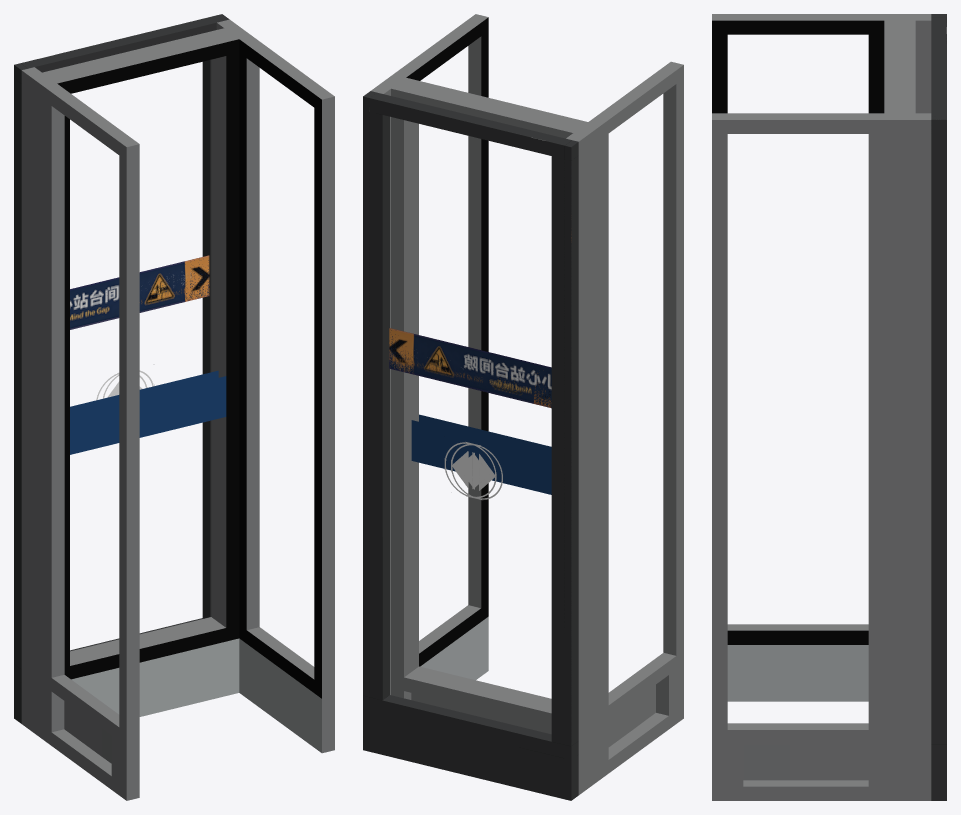
Rendered from door.obj.
3 views of the same model, side by side, from view 1: azimuth 30°, elevation 25°; view 2: azimuth 150°, elevation 25°; view 3: azimuth 270°, elevation 25° (orthographic). The views are drawn at different scales.
Parts seen in each view (by area): view 1: glass_left_long_end, glass_right_long_end, glass_right_door_end, glass_left_door_end, right_door, left_door, glass_left_door, glass_right_glass, glass_left_glass; view 2: right_door, left_door, glass_left_long_end, glass_right_long_end, glass_left_door, glass_left_door_end, glass_right_door_end, glass_right_glass, glass_left_glass; view 3: glass_right_long_end, glass_right_door_end, glass_left_long_end, left_door, glass_right_door, right_door, glass_left_door, glass_left_door_end, glass_right_glass.
Part boxes in pixels (x1,y1,x2,y2): glass_left_long_end: (21, 51, 139, 800); glass_right_long_end: (133, 19, 334, 753); glass_right_door_end: (141, 25, 251, 714); glass_left_door_end: (29, 56, 148, 739); right_door: (14, 14, 228, 723); left_door: (14, 14, 229, 721); glass_left_door: (21, 50, 140, 730); glass_right_glass: (135, 25, 239, 640); glass_left_glass: (29, 51, 140, 730); right_door: (363, 91, 578, 800); left_door: (363, 91, 578, 800); glass_left_long_end: (482, 61, 683, 793); glass_right_long_end: (371, 14, 489, 718); glass_left_door: (482, 105, 593, 794); glass_left_door_end: (490, 100, 601, 780); glass_right_door_end: (378, 75, 497, 690); glass_right_glass: (381, 81, 489, 717); glass_left_glass: (482, 106, 593, 784); glass_right_long_end: (712, 67, 931, 800); glass_right_door_end: (884, 67, 915, 800); glass_left_long_end: (712, 14, 931, 701); left_door: (931, 14, 946, 800); glass_right_door: (900, 113, 931, 800); right_door: (931, 14, 946, 800); glass_left_door: (900, 14, 931, 113); glass_left_door_end: (884, 14, 915, 66); glass_right_glass: (900, 67, 915, 120).
Bounding box in the file's own units: 1 × 3 × 0.9375.
